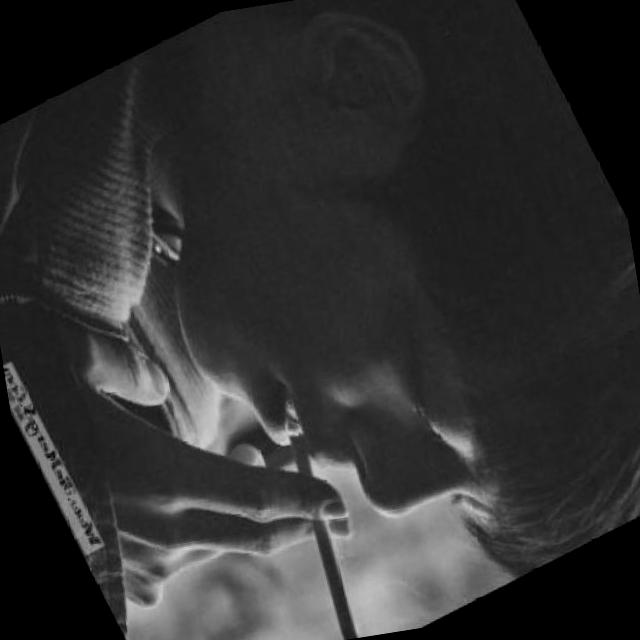smoke: (237, 416, 402, 640)
